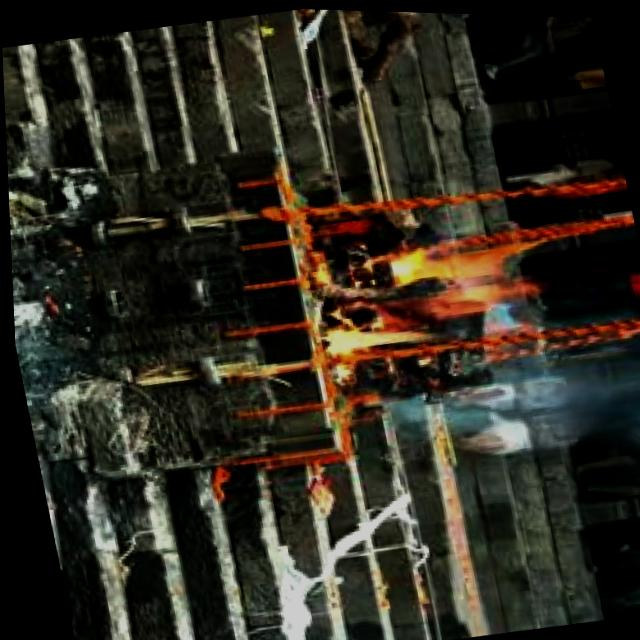Fire: (302, 224, 553, 387)
